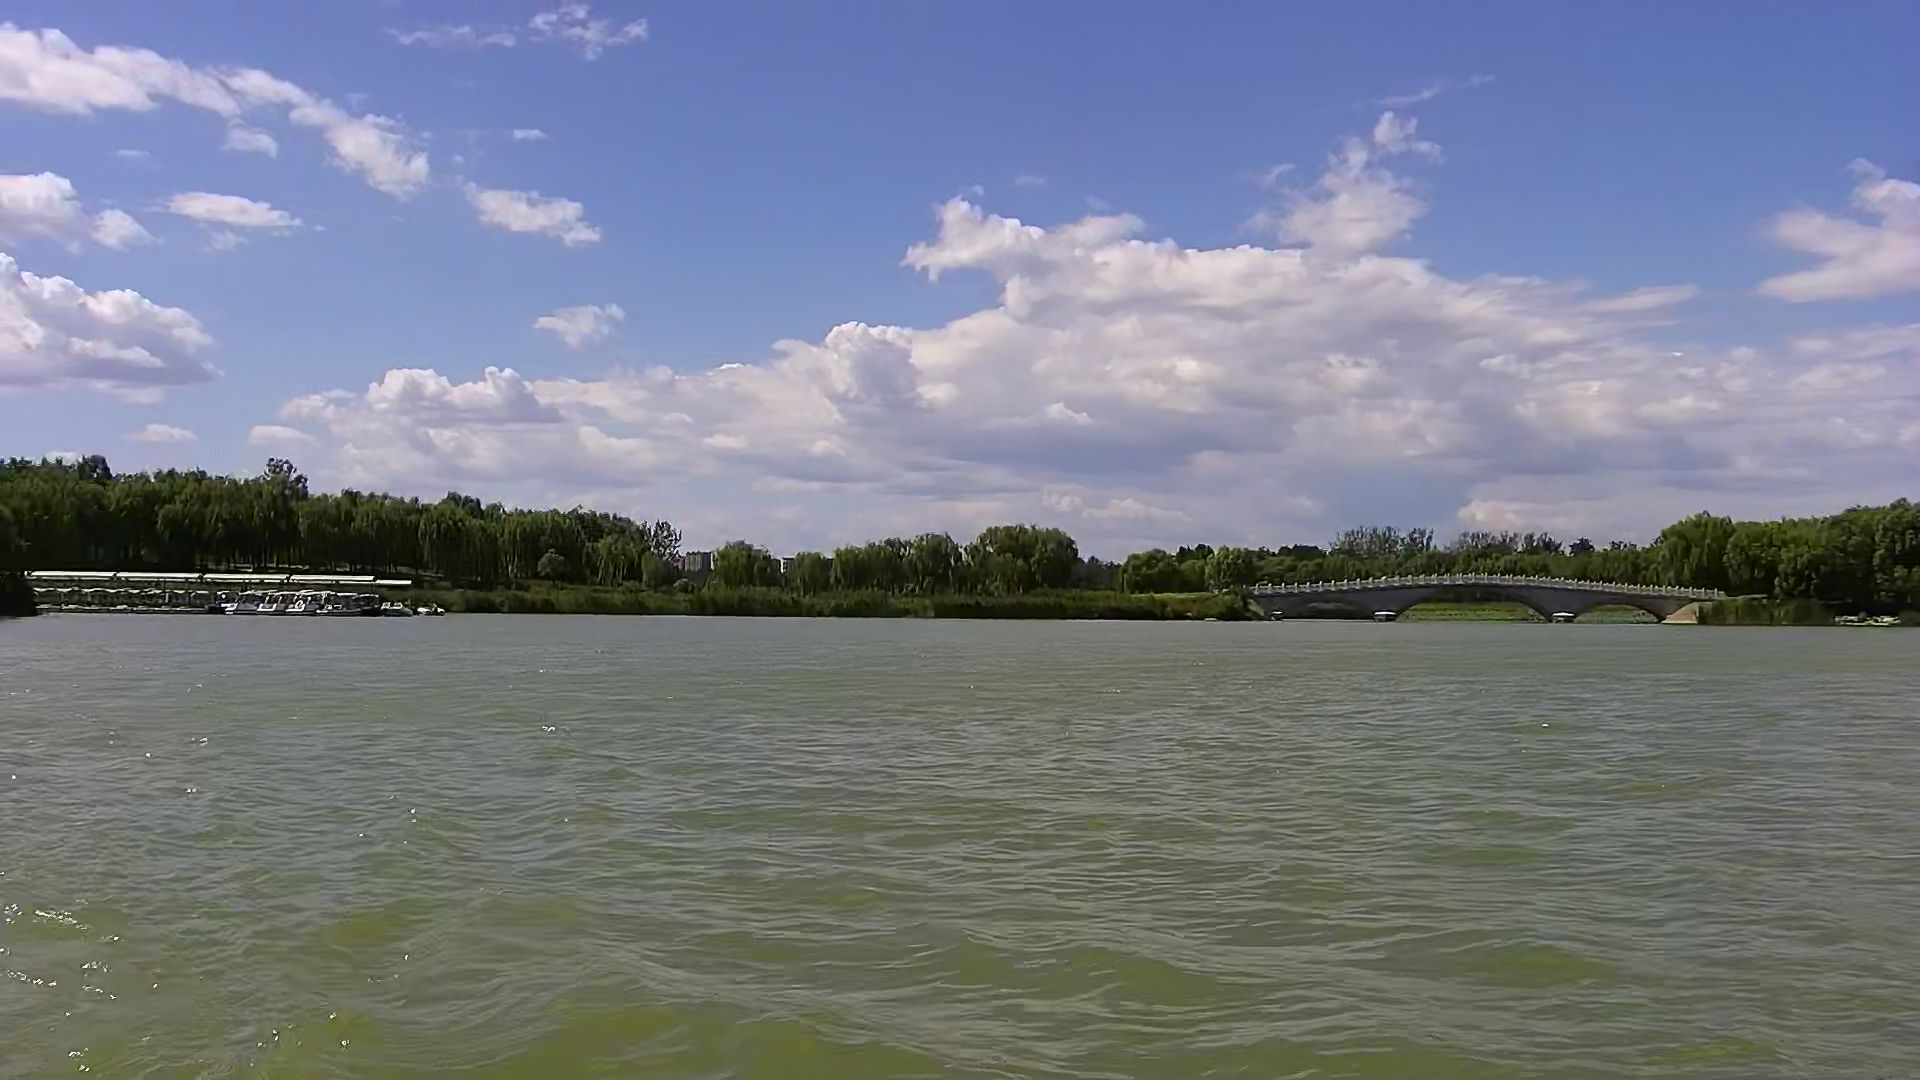bridge: (1244, 567, 1721, 625)
harbor: (18, 564, 444, 622)
